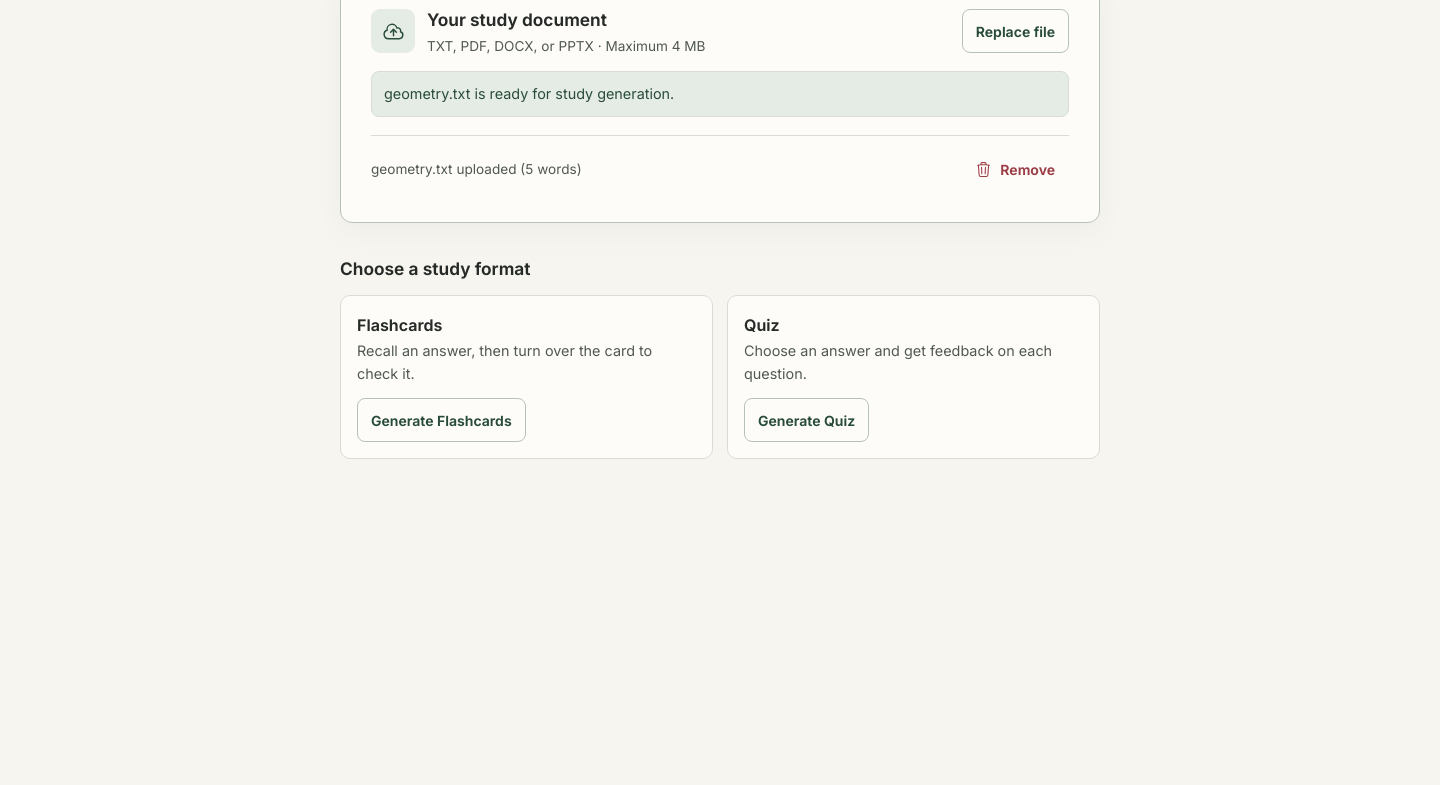
Scenario: requests five quiz questions and gives feedback on an answer
The image size is (1440, 785).
Earlier steps of the test are not shown.
Expected: the text "geometry.txt uploaded (5 words)" is shown, [371,158,582,181]
Click the button "Generate Quiz". click: (807, 420)
box: [744,398,869,442]
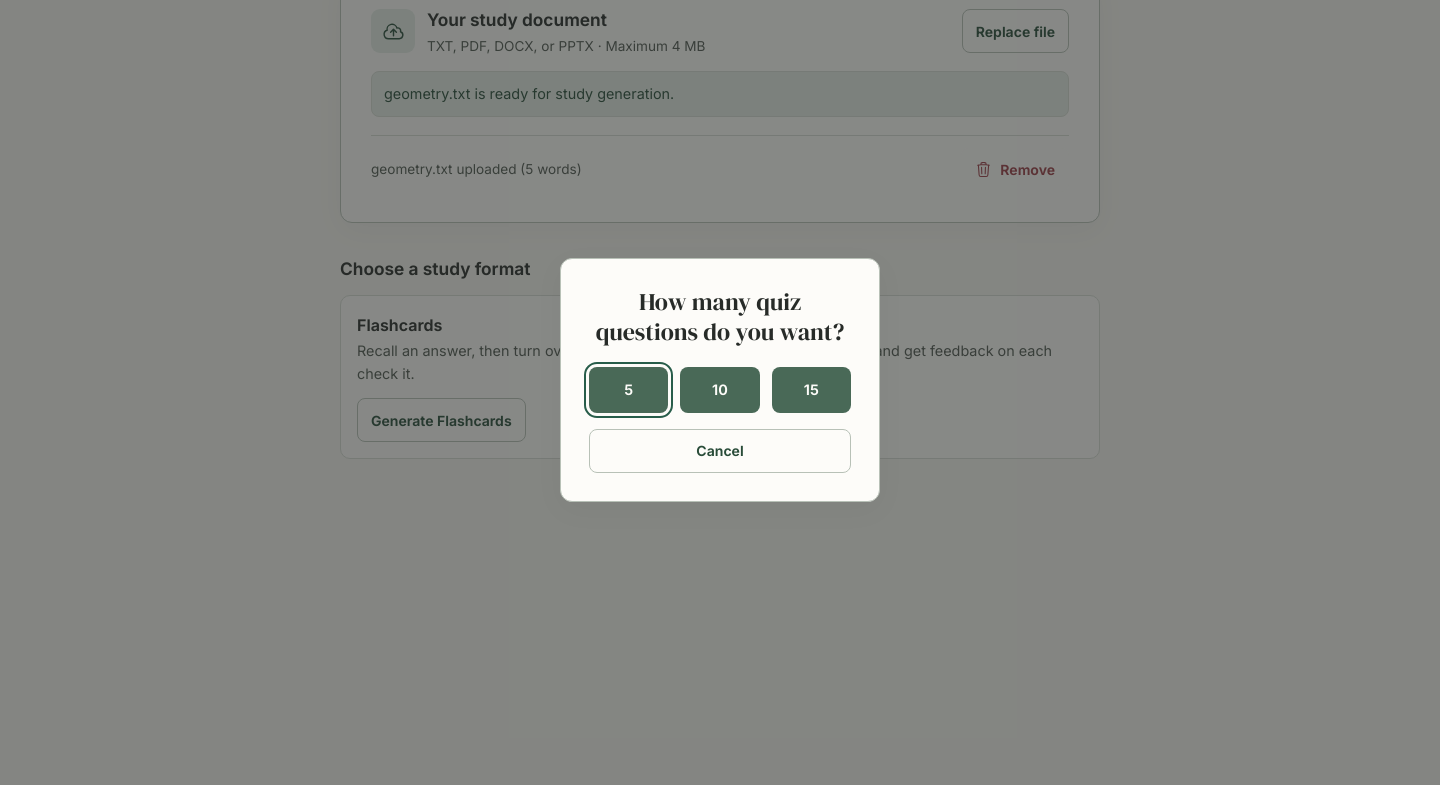
Click the button "5". click: (629, 390)
box: [589,367,668,413]
(page scrolled)
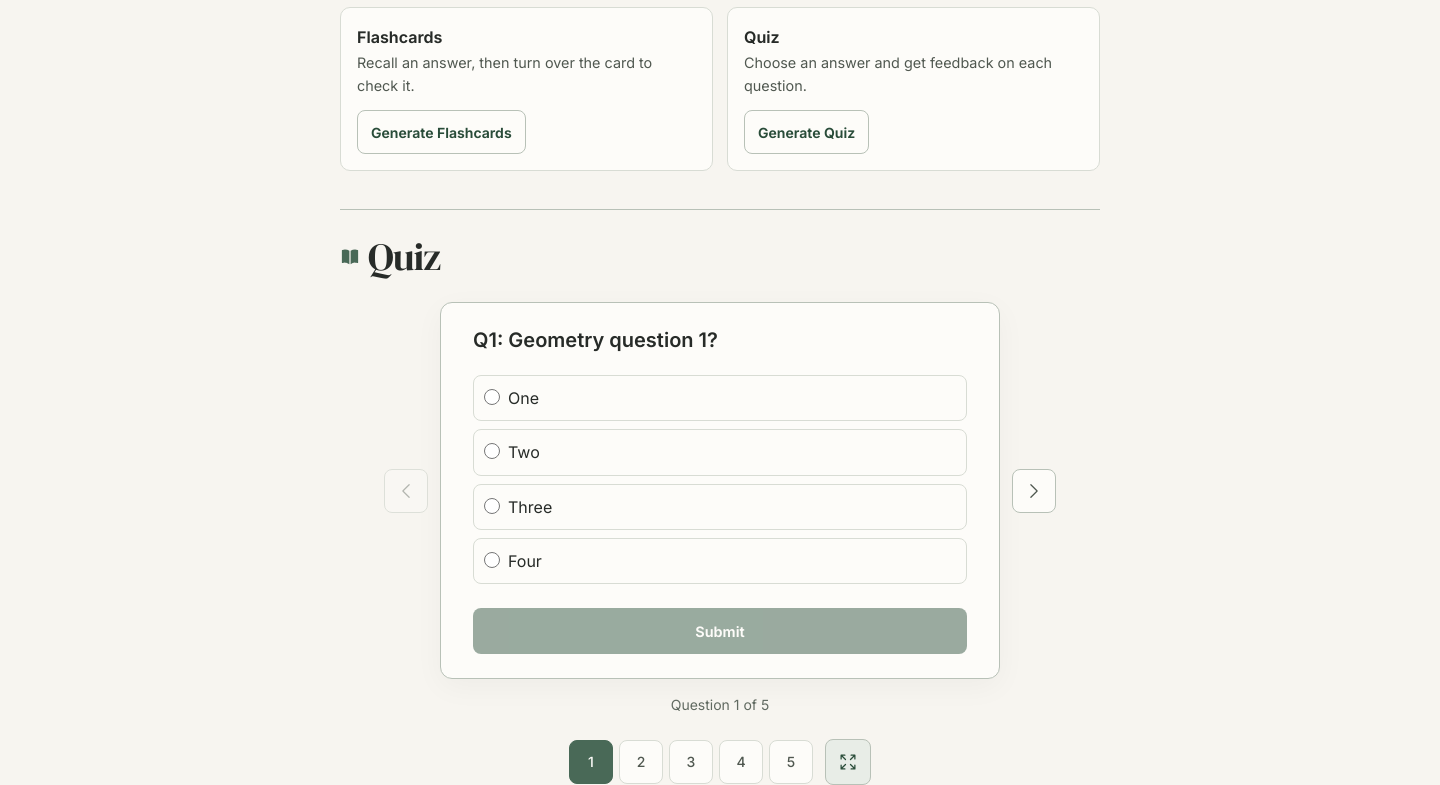
Result: the text "Q1: Geometry question 1?" is shown at [473,327,718,355]
Click the radio button labelled "Three". click: (492, 506)
box: [484,498,500,514]
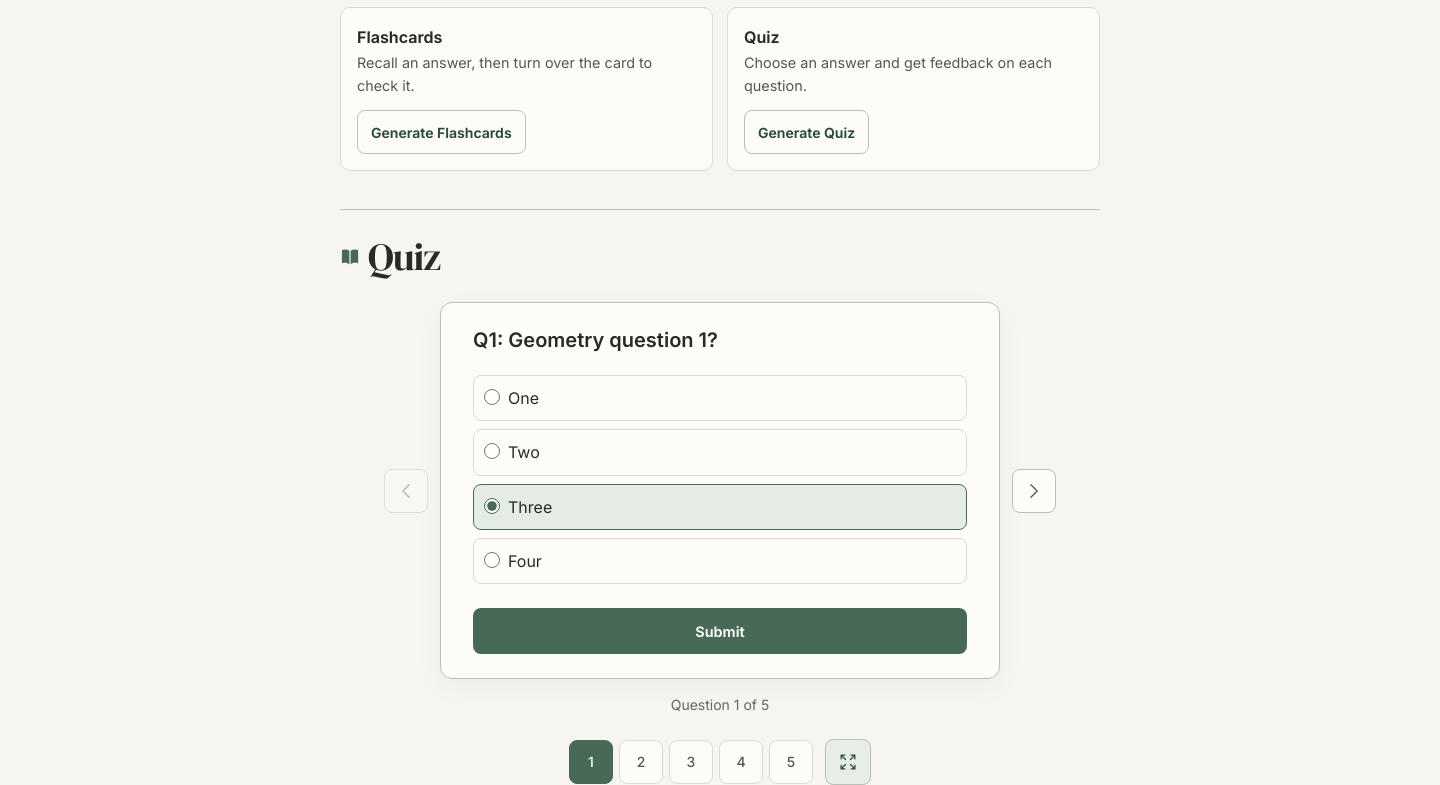
Click the button "Submit". click: (720, 631)
box: [473,608,967,654]
(page scrolled)
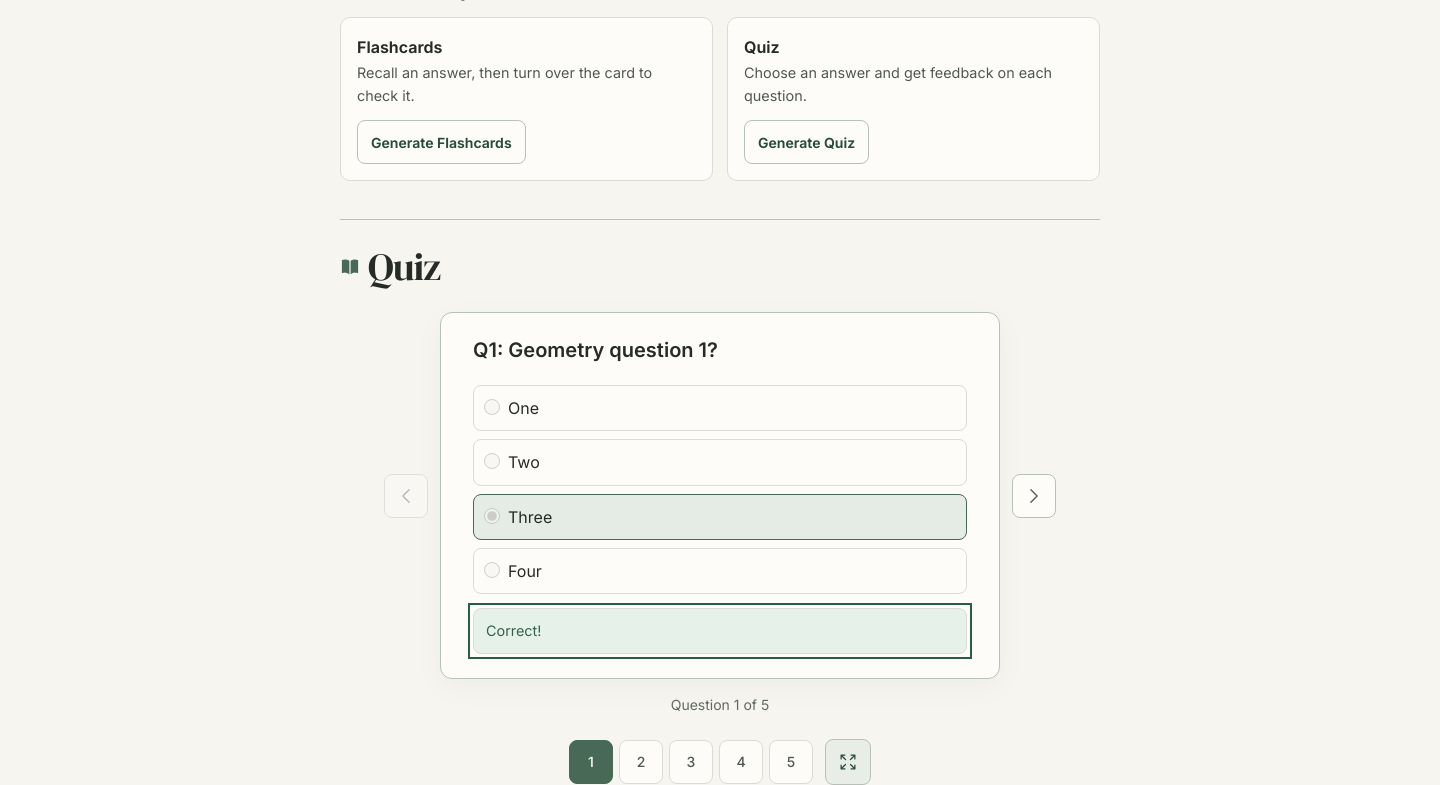
Result: the text "Correct!" is shown at [473,608,967,654]
